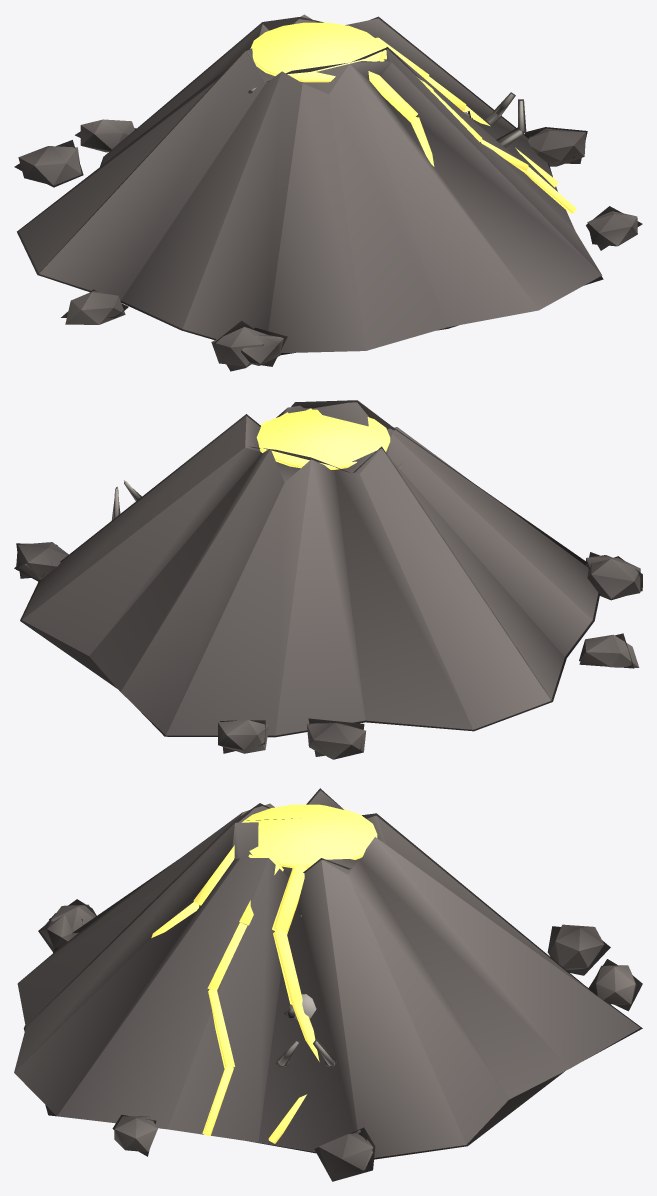
The model's file is stone_decor_volcano.glb.
3 renders of one model, top to bottom at view 1: azimuth 30°, elevation 25°; view 2: azimuth 150°, elevation 25°; view 3: azimuth 270°, elevation 25°, orthographic. The views are drawn at different scales.
Visible parts, largest first — view 1: Volcano, Volcano_Outline, Mammoth; view 2: Volcano, Volcano_Outline; view 3: Volcano, Volcano_Outline, Mammoth.
Part boxes in pixels (bbox=[...]): Volcano: bbox=[18, 14, 637, 366]; Volcano_Outline: bbox=[14, 16, 642, 371]; Mammoth: bbox=[464, 94, 524, 146]; Volcano: bbox=[16, 402, 640, 759]; Volcano_Outline: bbox=[14, 400, 642, 756]; Volcano: bbox=[14, 790, 640, 1175]; Volcano_Outline: bbox=[23, 788, 642, 1181]; Mammoth: bbox=[277, 994, 334, 1067].
Size of the model in its own units: 15.41 by 5.37 by 13.76.
